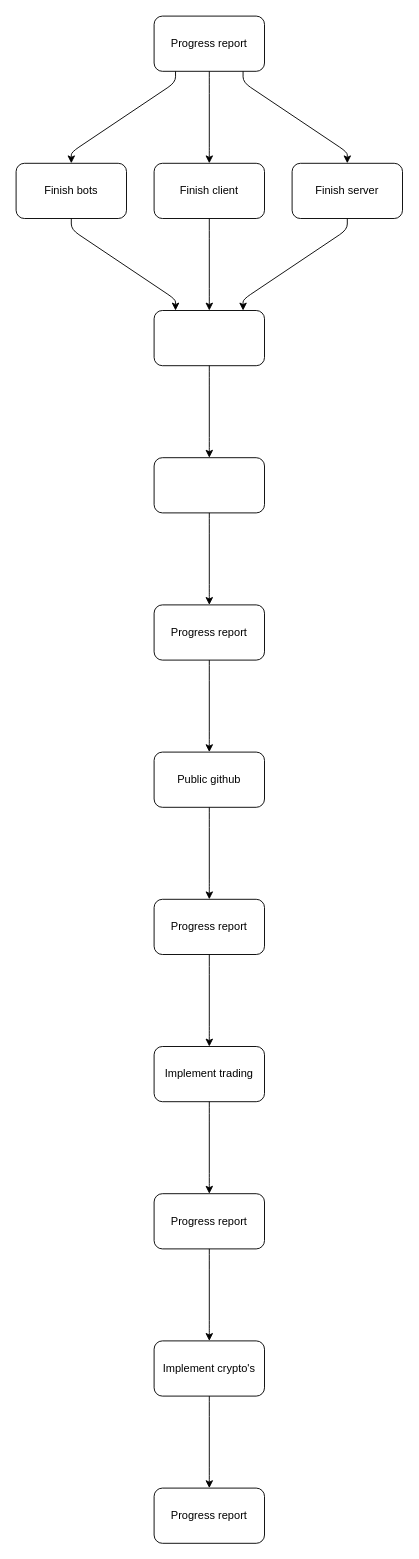
Some shapes in this 419 by 1559 pixel diagram are drawn without their labels. The centre of each missing label's shape, as x and y in pixels:
"Publish API" belongs at point (208, 485).
"Publish server" belongs at point (208, 338).
